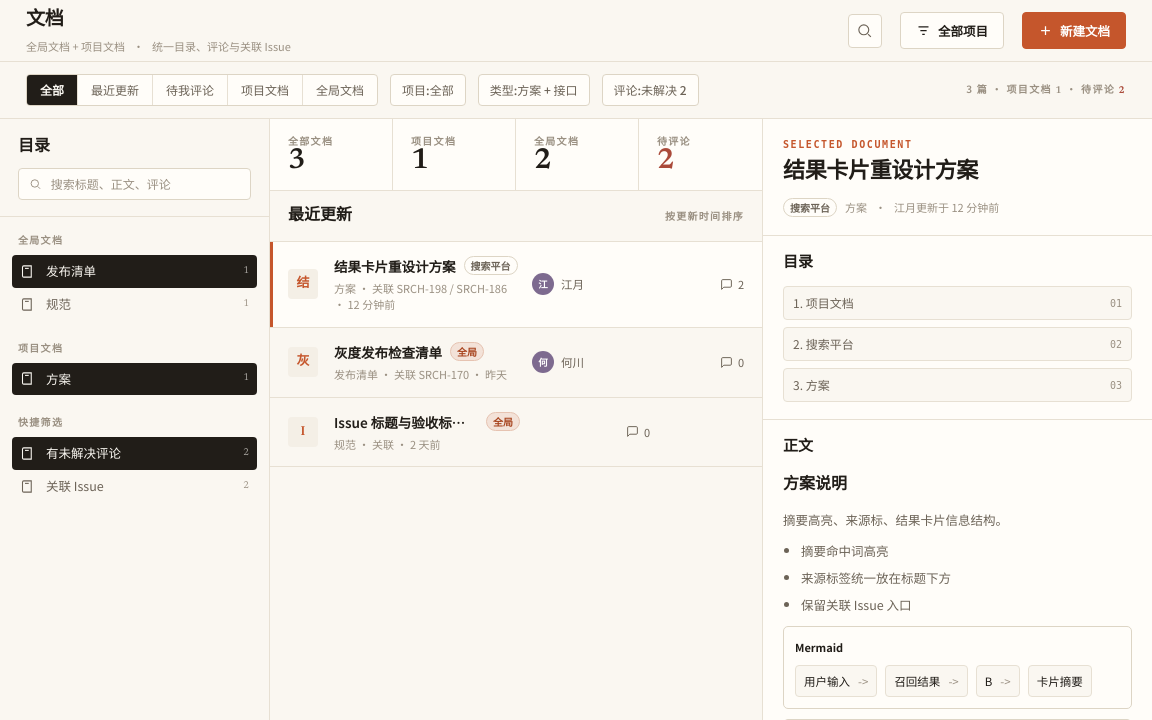
Test: DocsPage › shows global docs, project docs, directory, search, comments, linked issues, and comment actions
This screenshot has width=1152, height=720.
Expected: the heading "文档" is shown, [26,11,63,30]
Expected: the text "统一目录、评论与关联 Issue" is shown, [152,38,291,54]
In the search field named "搜索文档": {"x": 144, "y": 184} [49,174,240,194], type "结果卡片"
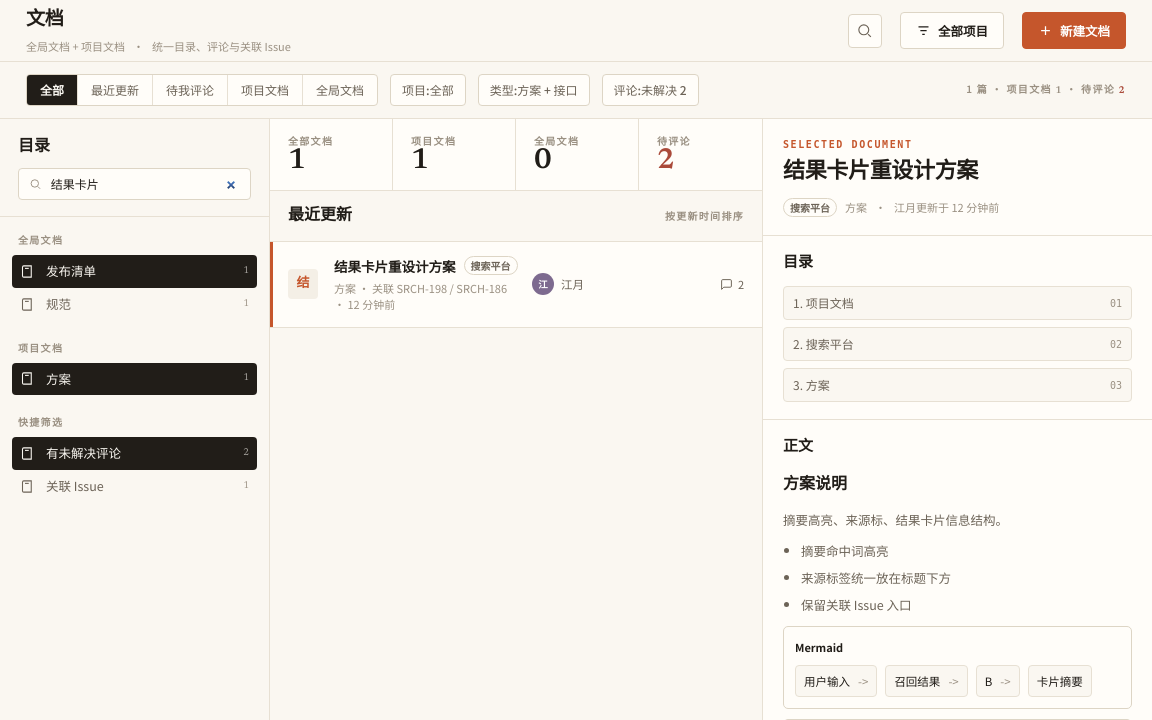
Expected: the button "灰度发布检查清单" is gone
